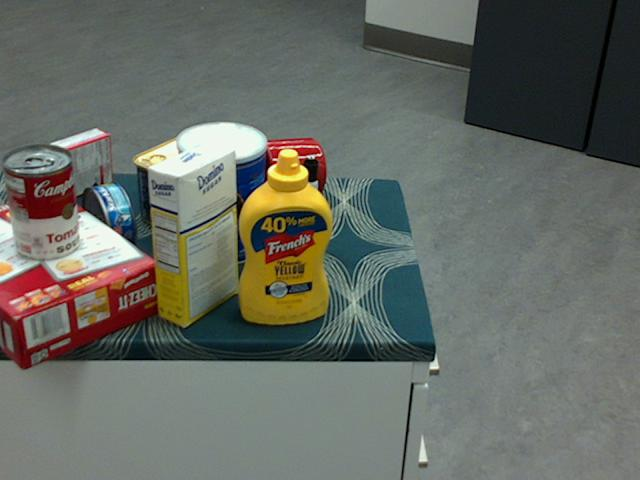cracker_box: (0, 187, 162, 369)
gelatin_box: (42, 127, 111, 202)
large_marker: (303, 156, 318, 250)
master_chef_can: (173, 120, 264, 266)
mug: (245, 135, 325, 206)
mustard_bottle: (238, 147, 333, 324)
potted_meat_can: (131, 134, 208, 227)
sugar_box: (146, 141, 238, 326)
tomato_soup_can: (2, 144, 79, 260)
tuna_fish_can: (79, 182, 134, 259)
